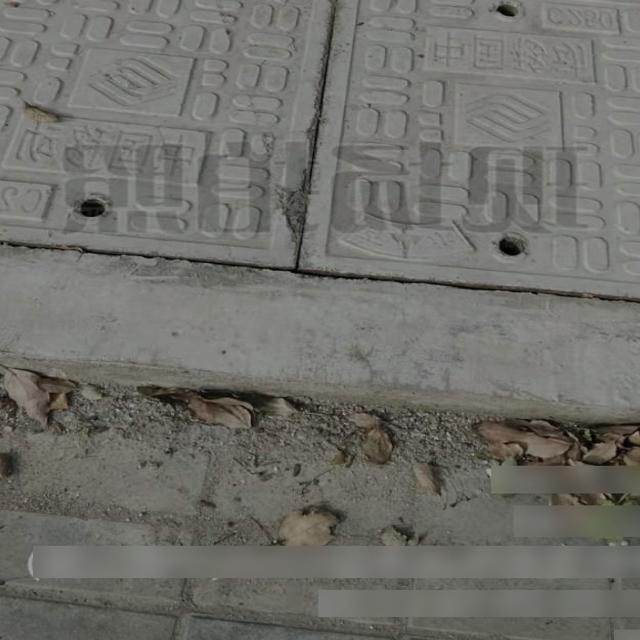good: (0, 0, 640, 319)
